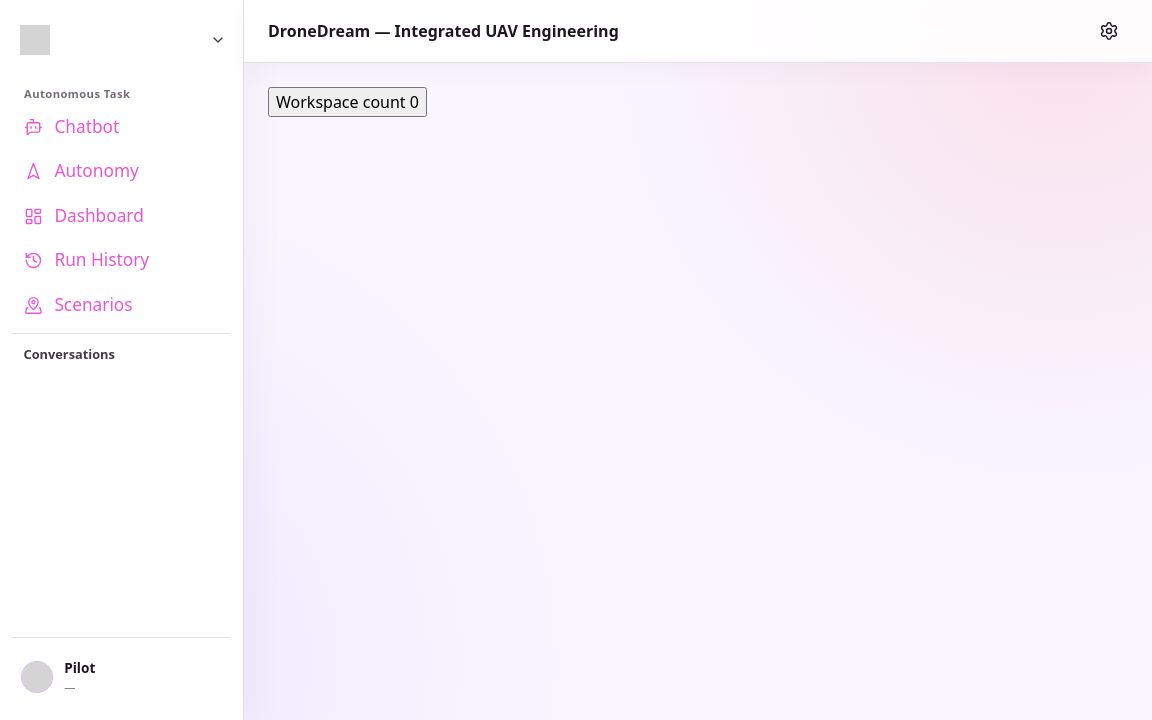
it: sidebar account menu › does not restore a cloud theme at launch or overwrite the current session on settings reopen
This screenshot has width=1152, height=720.
Click the button named "Settings" at (1109, 31), box [1090, 12, 1128, 50]
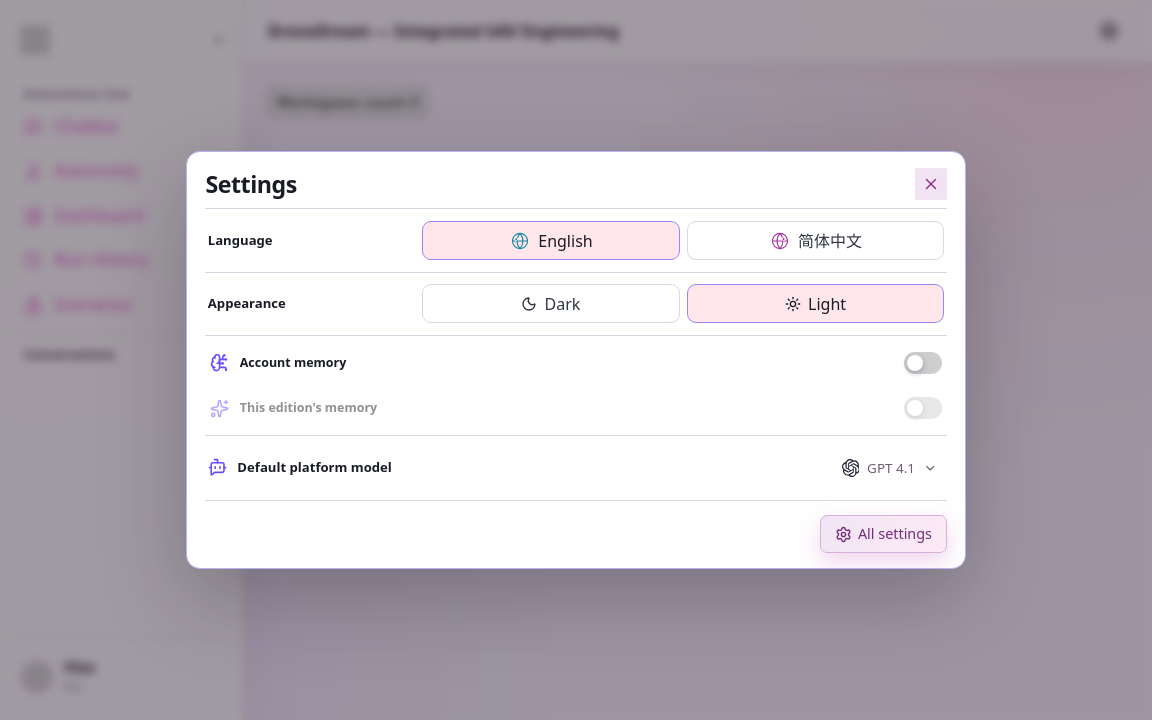
Now the checkbox labelled "Account memory" is enabled, box [210, 352, 942, 374]
Click the button "Dark" at (551, 304), box [422, 284, 680, 323]
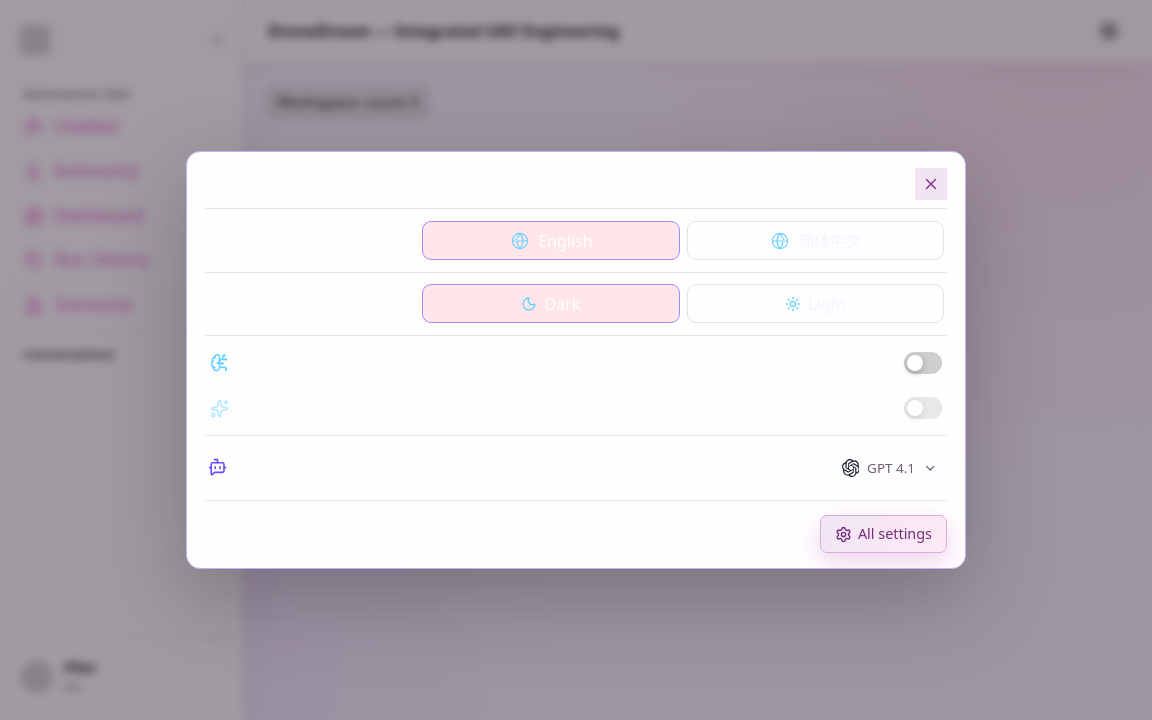
Click the button named "Close settings" at (931, 184), box [915, 168, 947, 200]
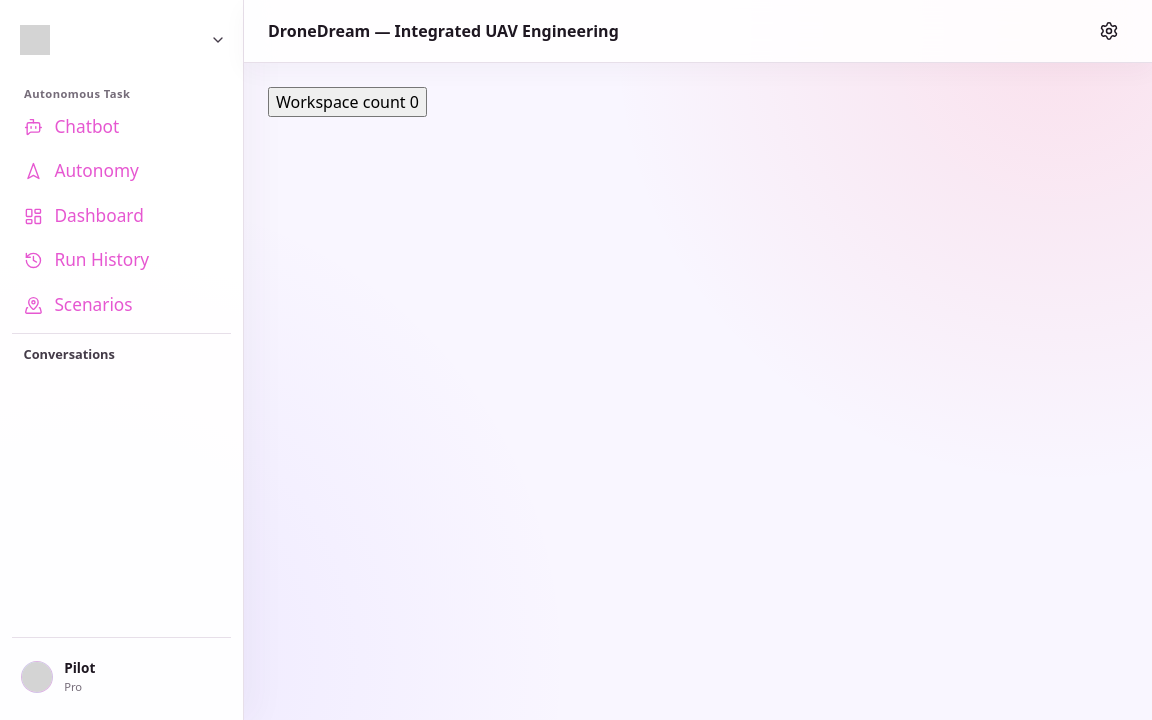
Click the button named "Settings" at (1109, 31), box [1090, 12, 1128, 50]
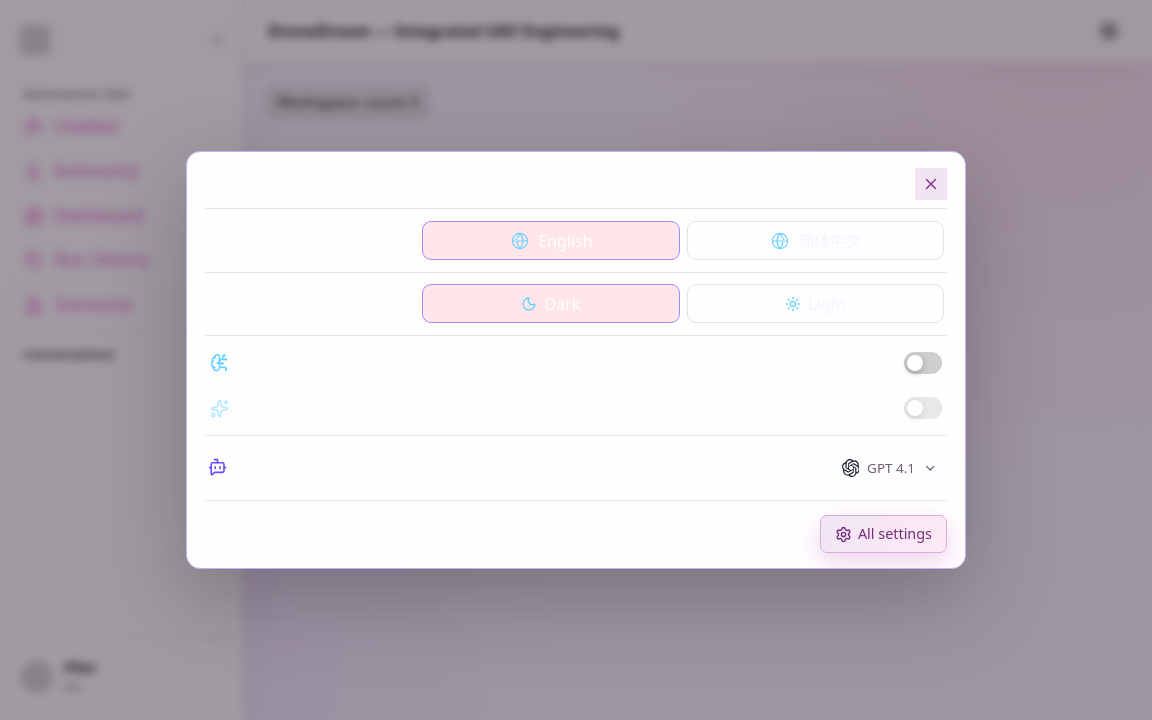
Now the checkbox labelled "Account memory" is enabled, box [210, 352, 942, 374]
